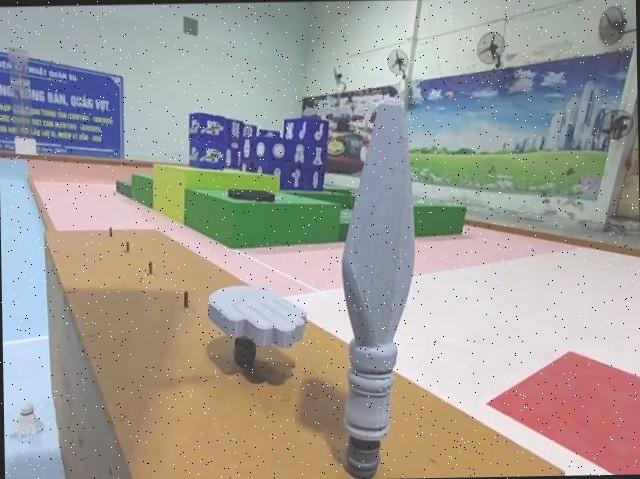Hand: (209, 280, 309, 366)
Sph: (336, 98, 420, 479)
